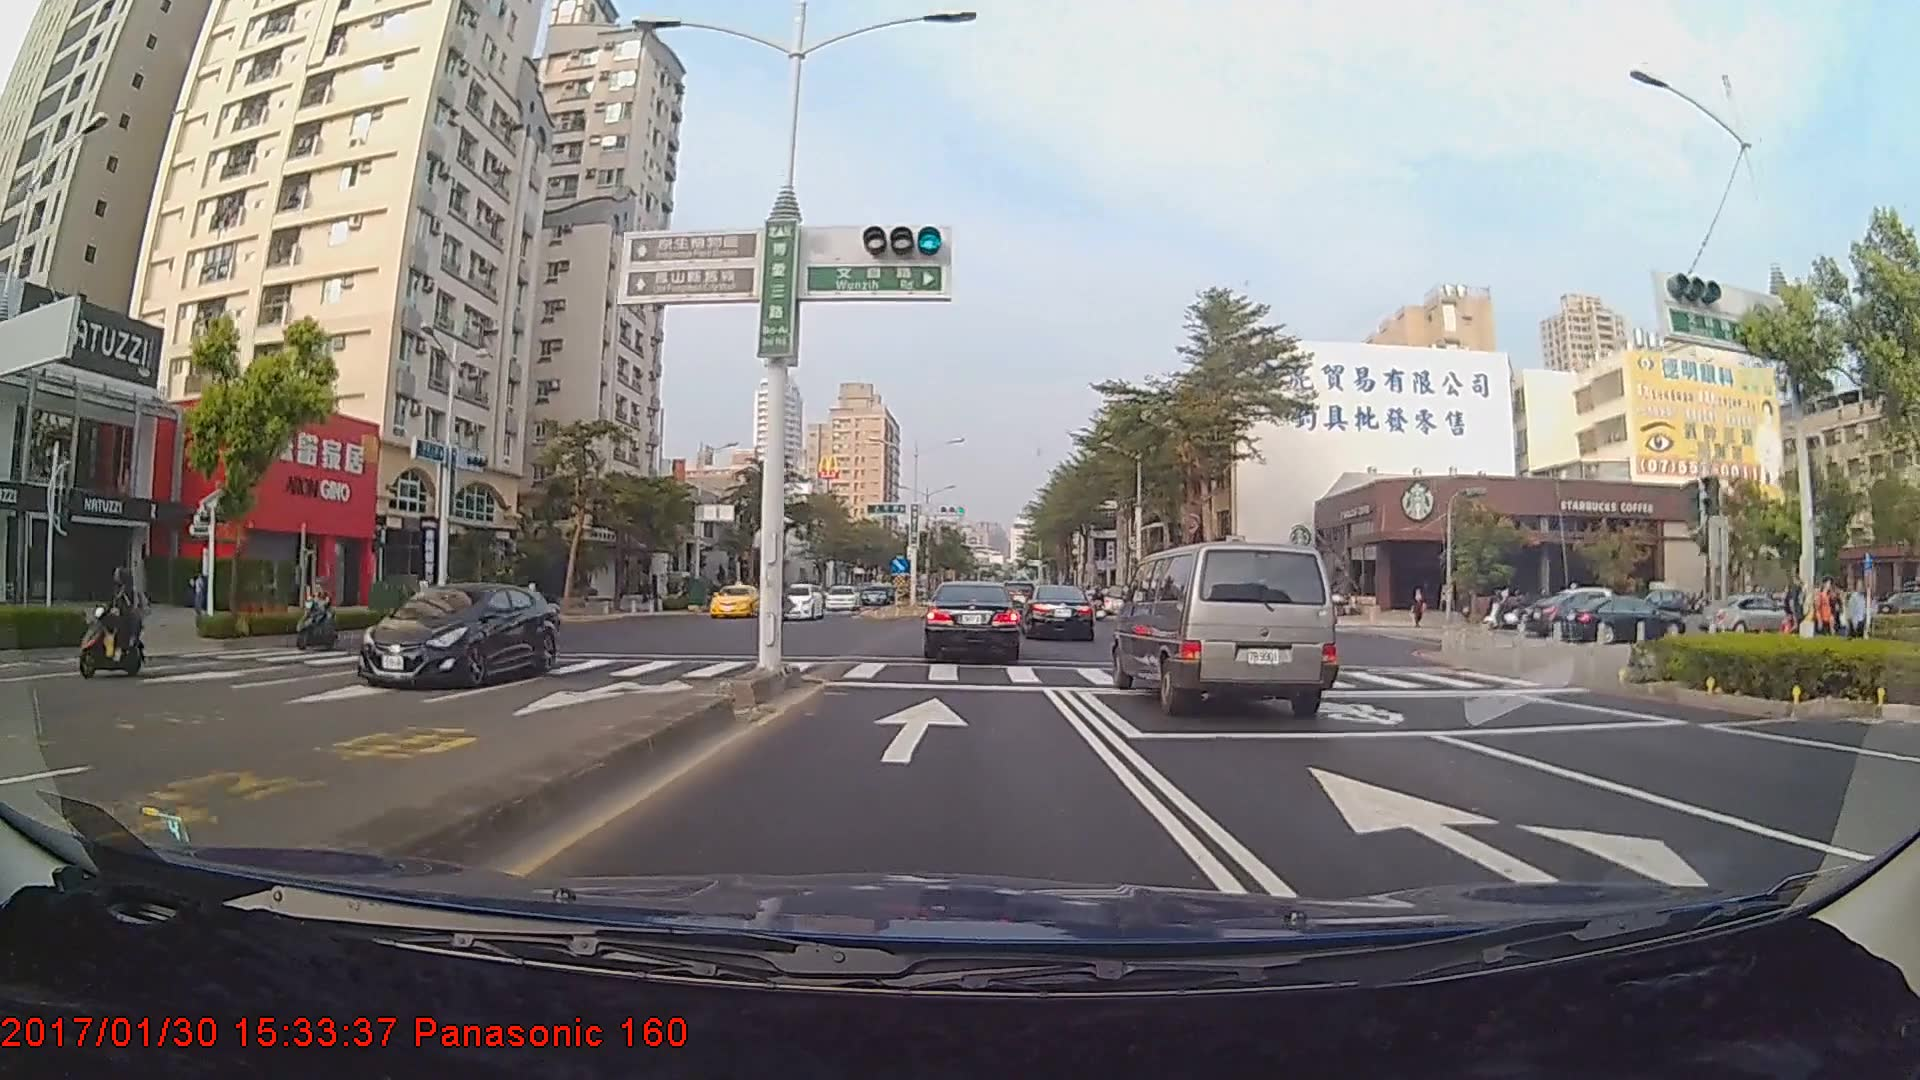pedestrian: (1783, 565, 1810, 659), (1810, 578, 1834, 651), (1849, 581, 1870, 647)
rider: (67, 562, 159, 678), (294, 578, 346, 656), (1479, 583, 1528, 629)
vehicle: (1118, 538, 1340, 718), (356, 581, 561, 687), (923, 581, 1022, 661), (1566, 587, 1696, 646), (1020, 583, 1095, 641), (769, 581, 825, 621), (707, 579, 764, 617), (820, 583, 858, 610)
